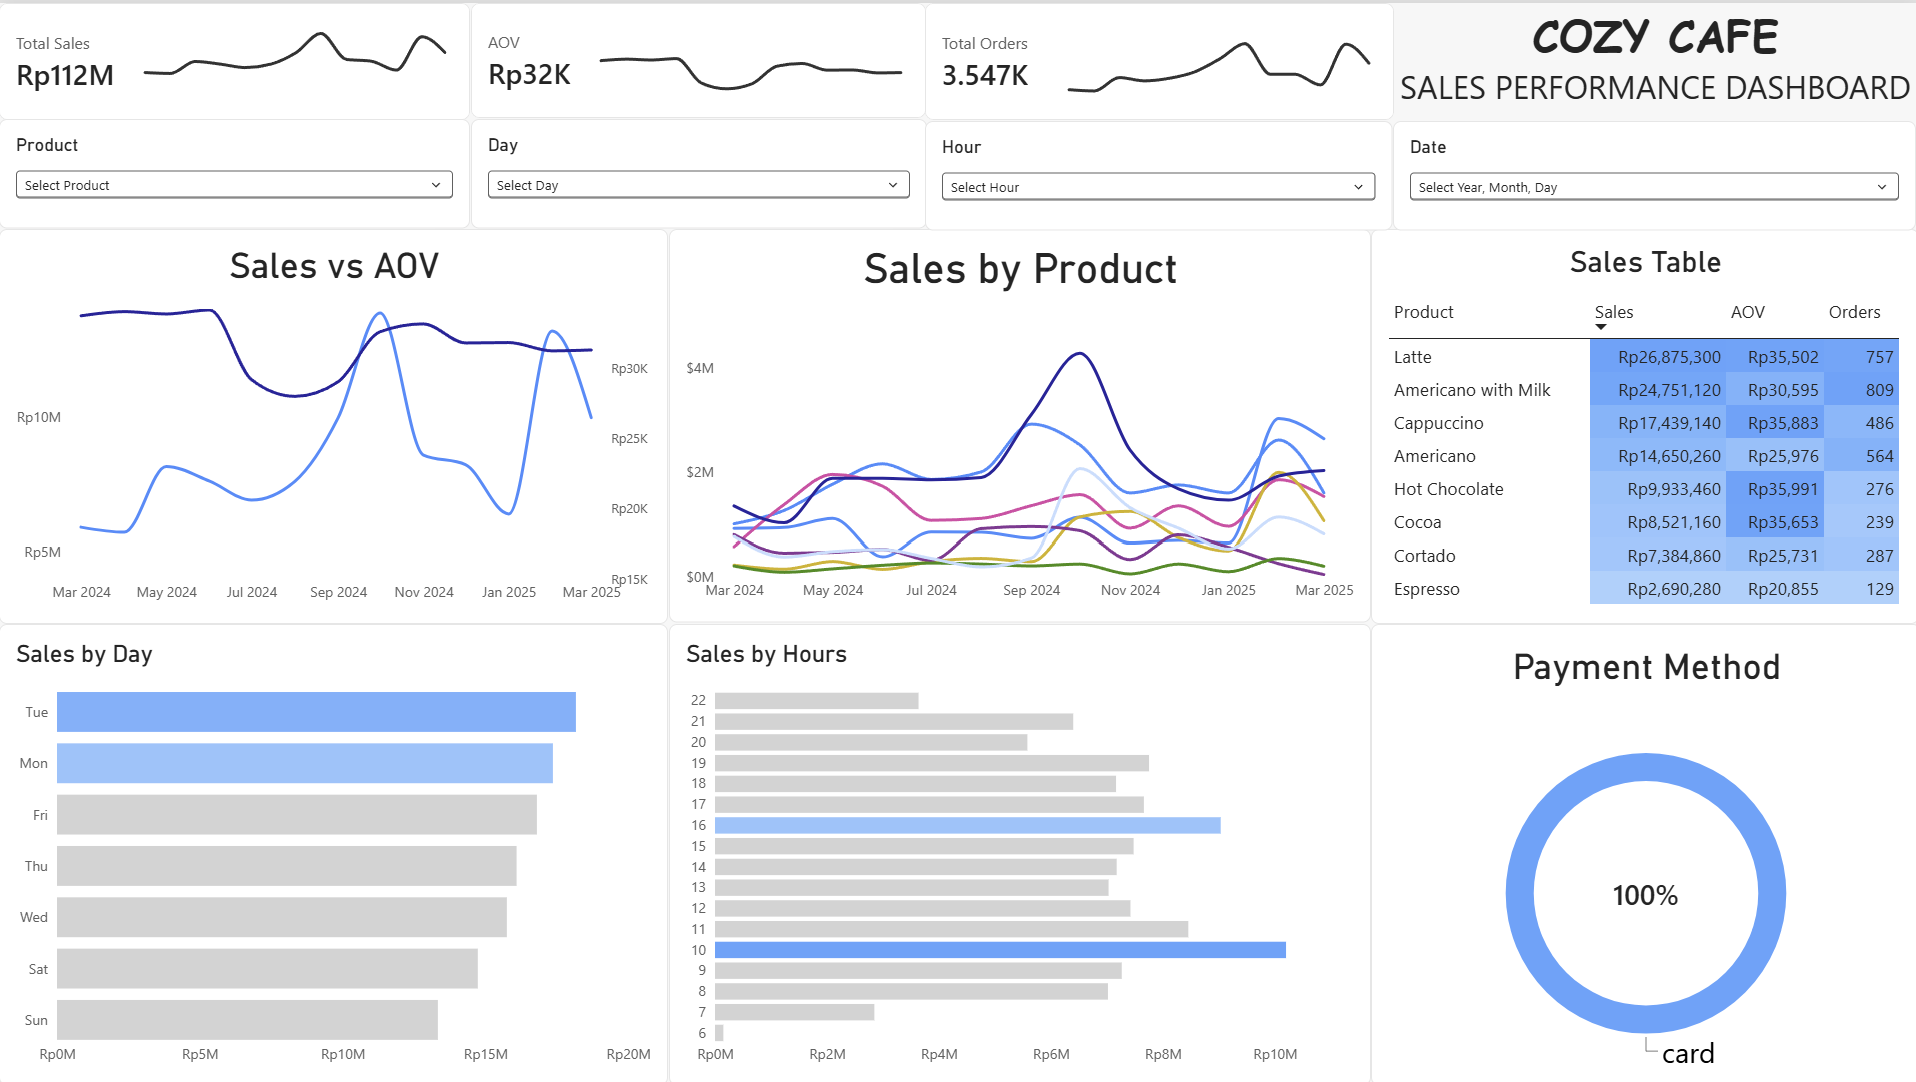

This screenshot's page, from the dashboard's own definition file:
{"tool":"powerbi","page":{"name":"dashboard","canvas":[1920,1080],"ordinal":0},"visuals":[{"type":"lineChart","title":"Sales by Product","fields":{"Category":["Coffe_sales_cleaned.Date.Variation.Date Hierarchy.Year","Coffe_sales_cleaned.Date.Variation.Date Hierarchy.Month"],"Series":["Coffe_sales_cleaned.coffee_name"],"Y":["Sum(Coffe_sales_cleaned.money_cleaned)"]},"box":[669.2,226.9,701.9,392.3],"z":0},{"type":"lineChart","title":"Sales vs AOV","fields":{"Category":["Coffe_sales_cleaned.Date.Variation.Date Hierarchy.Year","Coffe_sales_cleaned.Date.Variation.Date Hierarchy.Month"],"Y":["Sum(Coffe_sales_cleaned.money_cleaned)"],"Y2":["Avg(Coffe_sales_cleaned.money_cleaned)"]},"box":[0,226.9,669.2,394.2],"z":1000},{"type":"tableEx","title":"Sales Table","fields":{"Values":["Coffe_sales_cleaned.coffee_name","Sum(Coffe_sales_cleaned.money_cleaned)","Avg(Coffe_sales_cleaned.money_cleaned)","Coffe_sales_cleaned.Time_cleaned"]},"box":[1371.2,226.9,548.1,394.2],"z":2000},{"type":"barChart","title":"Sales by Hours","fields":{"Category":["Coffe_sales_cleaned.hour_of_day"],"Y":["Sum(Coffe_sales_cleaned.money_cleaned)"]},"box":[669.2,619.2,701.9,461.5],"z":3000},{"type":"barChart","title":"Sales by Day","fields":{"Category":["Coffe_sales_cleaned.Weekday"],"Y":["Sum(Coffe_sales_cleaned.money_cleaned)"]},"box":[0,619.2,669.2,461.5],"z":4000},{"type":"donutChart","title":"Payment Method","fields":{"Category":["Coffe_sales_cleaned.pay_method"],"Y":["Divide(CountNonNull(Coffe_sales_cleaned.Time_cleaned), ScopedEval(CountNonNull(Coffe_sales_cleaned.Time_cleaned), []))"]},"box":[1371.2,619.2,550,461.5],"z":5000},{"type":"cardVisual","fields":{"Data":["Sum(Coffe_sales_cleaned.money_cleaned)"]},"box":[0,0,471.2,117.3],"z":6000},{"type":"cardVisual","fields":{"Data":["Avg(Coffe_sales_cleaned.money_cleaned)"]},"box":[471.2,0,455.8,115.4],"z":7000},{"type":"cardVisual","fields":{"Data":["Count(Coffe_sales_cleaned.Time_cleaned)"]},"box":[926.9,0,469.2,117.3],"z":8000},{"type":"textbox","box":[1394.2,1.9,525,115.4],"z":9000},{"type":"listSlicer","title":"Date","fields":{"Values":["Coffe_sales_cleaned.Date.Variation.Date Hierarchy.Year","Coffe_sales_cleaned.Date.Variation.Date Hierarchy.Month","Coffe_sales_cleaned.Date.Variation.Date Hierarchy.Day"]},"box":[1394.2,117.3,523.1,109.6],"z":10000},{"type":"listSlicer","fields":{"Values":["Coffe_sales_cleaned.Weekday"]},"box":[471.2,115.4,455.8,109.6],"z":10001},{"type":"listSlicer","fields":{"Values":["Coffe_sales_cleaned.coffee_name"]},"box":[0,115.4,471.2,109.6],"z":10002},{"type":"listSlicer","fields":{"Values":["Coffe_sales_cleaned.hour_of_day"]},"box":[926.9,117.3,467.3,109.6],"z":10003},{"type":"lineChart","fields":{"Category":["Coffe_sales_cleaned.Date.Variation.Date Hierarchy.Year","Coffe_sales_cleaned.Date.Variation.Date Hierarchy.Month"],"Y":["Sum(Coffe_sales_cleaned.money_cleaned)"]},"box":[119.2,1.9,351.9,113.5],"z":10004},{"type":"lineChart","fields":{"Category":["Coffe_sales_cleaned.Date.Variation.Date Hierarchy.Year","Coffe_sales_cleaned.Date.Variation.Date Hierarchy.Month"],"Y":["Avg(Coffe_sales_cleaned.money_cleaned)"]},"box":[575,3.8,351.9,113.5],"z":10005},{"type":"lineChart","fields":{"Category":["Coffe_sales_cleaned.Date.Variation.Date Hierarchy.Year","Coffe_sales_cleaned.Date.Variation.Date Hierarchy.Month"],"Y":["CountNonNull(Coffe_sales_cleaned.Time_cleaned)"]},"box":[1044.2,3.8,351.9,113.5],"z":10006}]}

Visuals, with their boxes in screenshot pixels (x1, y1, x2, y2), scaled from the page's 1920x1080 canvas onto the 1916x1082 screenshot:
"Sales by Product" lineChart: 668 227 1368 620
"Sales vs AOV" lineChart: 0 227 668 622
"Sales Table" tableEx: 1368 227 1915 622
"Sales by Hours" barChart: 668 620 1368 1081
"Sales by Day" barChart: 0 620 668 1081
"Payment Method" donutChart: 1368 620 1915 1081
cardVisual - Sum(Coffe_sales_cleaned.money_cleaned): 0 0 470 118
cardVisual - Avg(Coffe_sales_cleaned.money_cleaned): 470 0 925 116
cardVisual - Count(Coffe_sales_cleaned.Time_cleaned): 925 0 1393 118
textbox: 1391 2 1915 118
"Date" listSlicer: 1391 118 1913 227
listSlicer - Coffe_sales_cleaned.Weekday: 470 116 925 225
listSlicer - Coffe_sales_cleaned.coffee_name: 0 116 470 225
listSlicer - Coffe_sales_cleaned.hour_of_day: 925 118 1391 227
lineChart - Coffe_sales_cleaned.Date.Variation.Date Hierarchy.Year x Coffe_sales_cleaned.Date.Variation.Date Hierarchy.Month: 119 2 470 116
lineChart - Coffe_sales_cleaned.Date.Variation.Date Hierarchy.Year x Coffe_sales_cleaned.Date.Variation.Date Hierarchy.Month: 574 4 925 118
lineChart - Coffe_sales_cleaned.Date.Variation.Date Hierarchy.Year x Coffe_sales_cleaned.Date.Variation.Date Hierarchy.Month: 1042 4 1393 118
